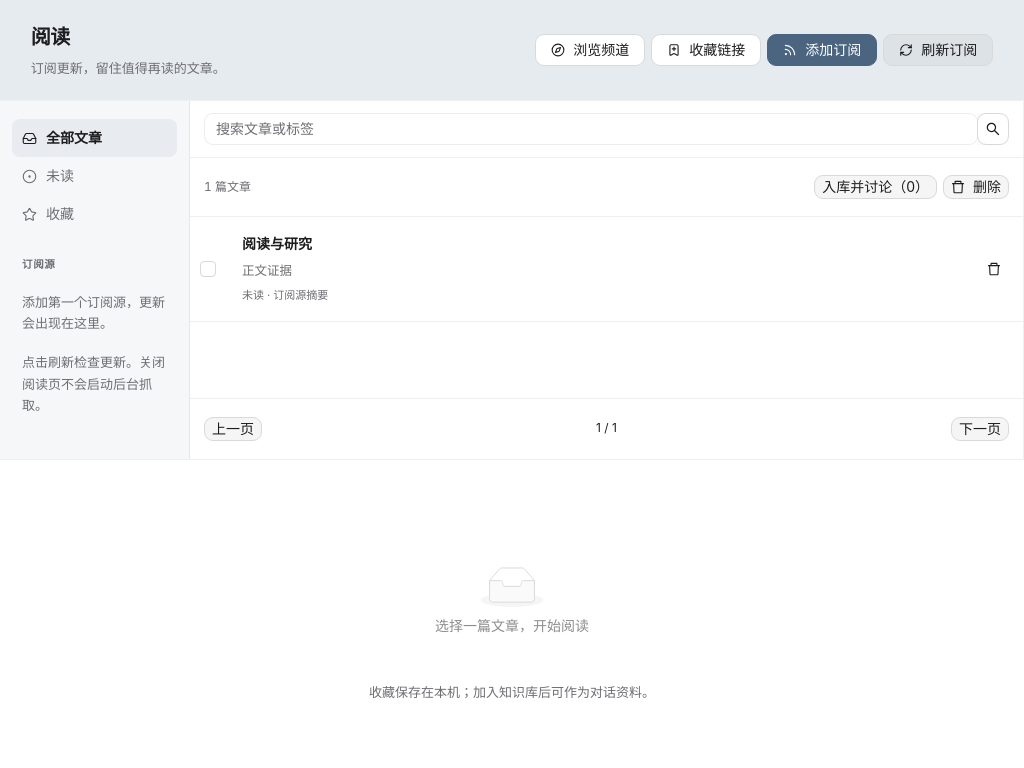
Reading library › brings the reader into view when navigation narrows a wide window
Click the button "阅读与研究 正文证据 未读 · 订阅源摘要": (277, 244) [232,221,975,317]
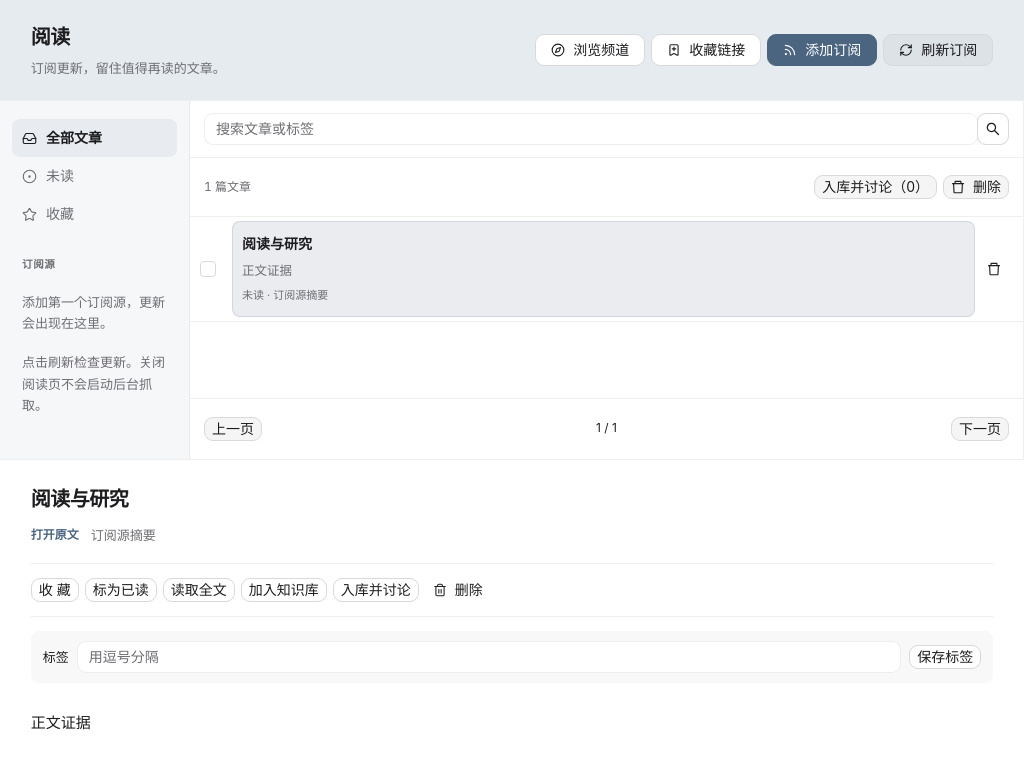
Expected: the heading "阅读与研究" is shown, [31,487,128,511]
